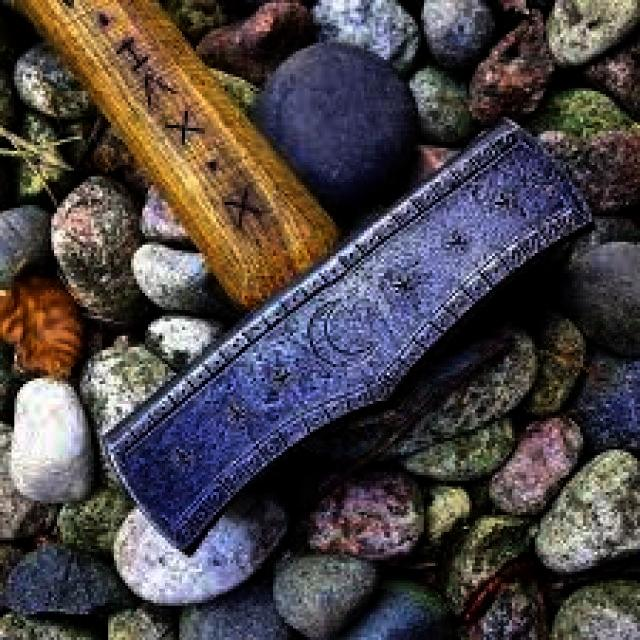hammer: (0, 0, 608, 577)
